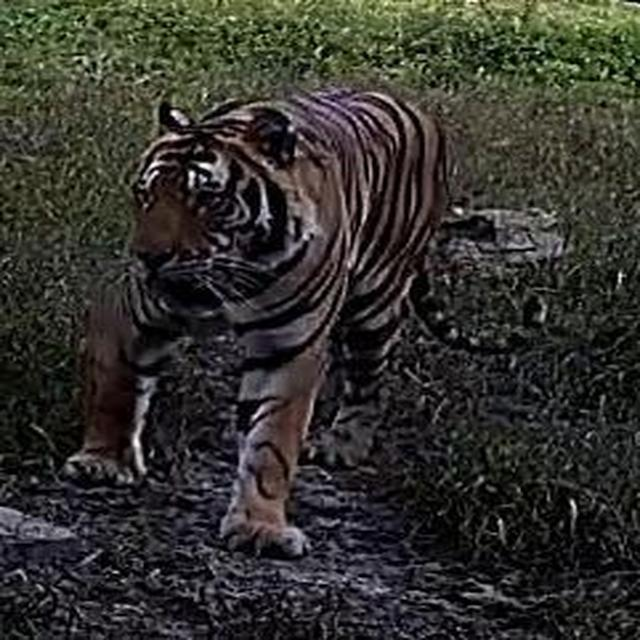tiger: (64, 75, 560, 559)
